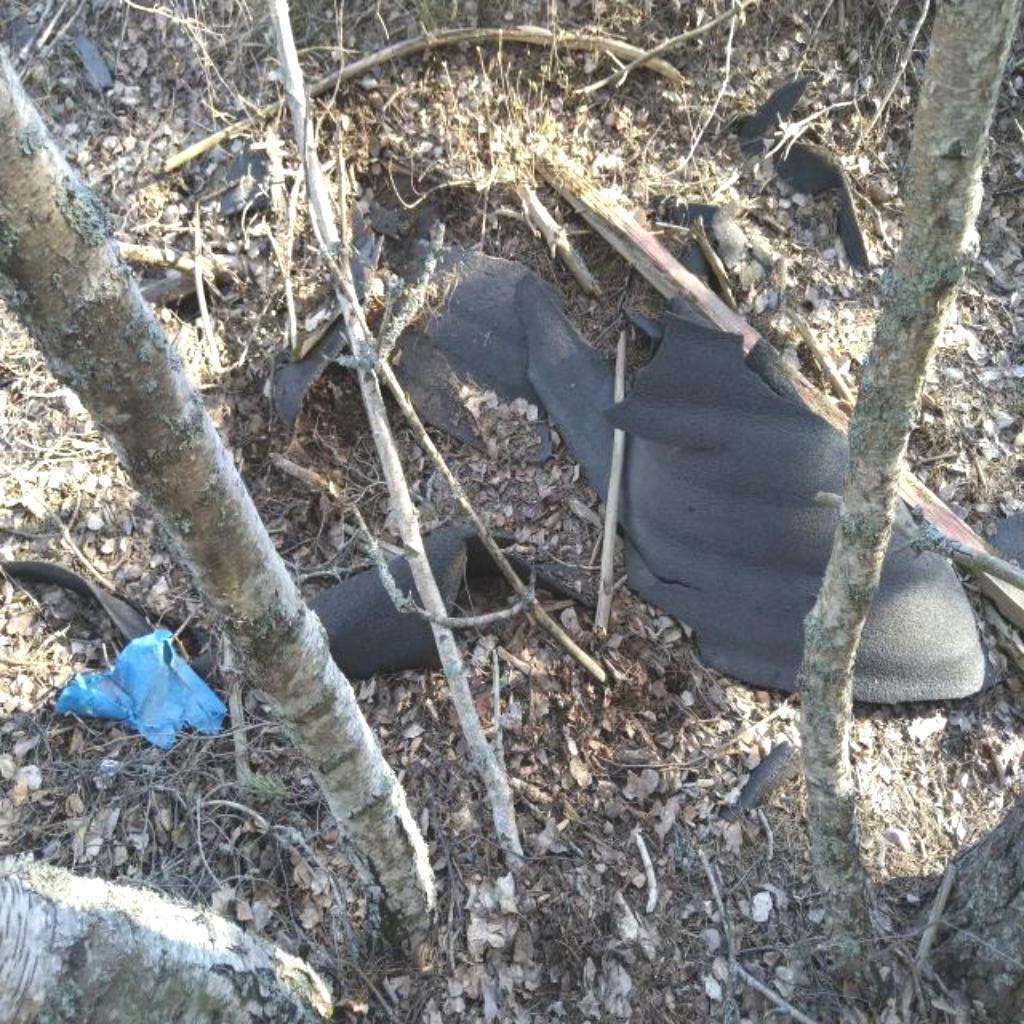garbage: (54, 629, 229, 747)
